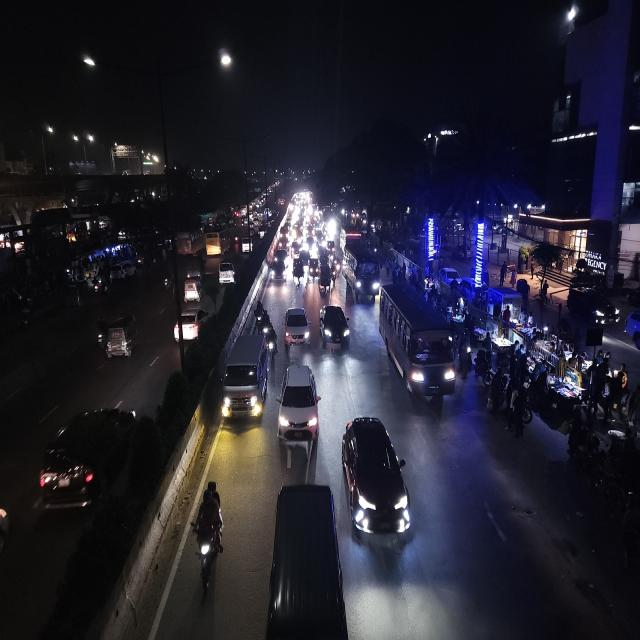bus: (377, 281, 461, 406), (343, 239, 381, 303), (175, 222, 202, 257), (203, 220, 229, 256)
car: (264, 480, 348, 640), (34, 397, 140, 522), (340, 408, 413, 560), (220, 331, 270, 426), (278, 360, 320, 452), (318, 302, 351, 355), (172, 304, 208, 346), (284, 304, 310, 350), (268, 247, 290, 283), (593, 301, 621, 329), (623, 309, 640, 351), (216, 257, 236, 288), (439, 266, 459, 288), (290, 238, 302, 258), (278, 232, 290, 248)
cng: (100, 311, 137, 365), (317, 266, 333, 299), (183, 279, 202, 304), (292, 256, 306, 288), (308, 255, 320, 282)
motorcycle: (190, 477, 226, 596), (252, 297, 270, 336), (264, 322, 278, 361), (162, 272, 172, 294)
truck: (238, 230, 255, 256)
